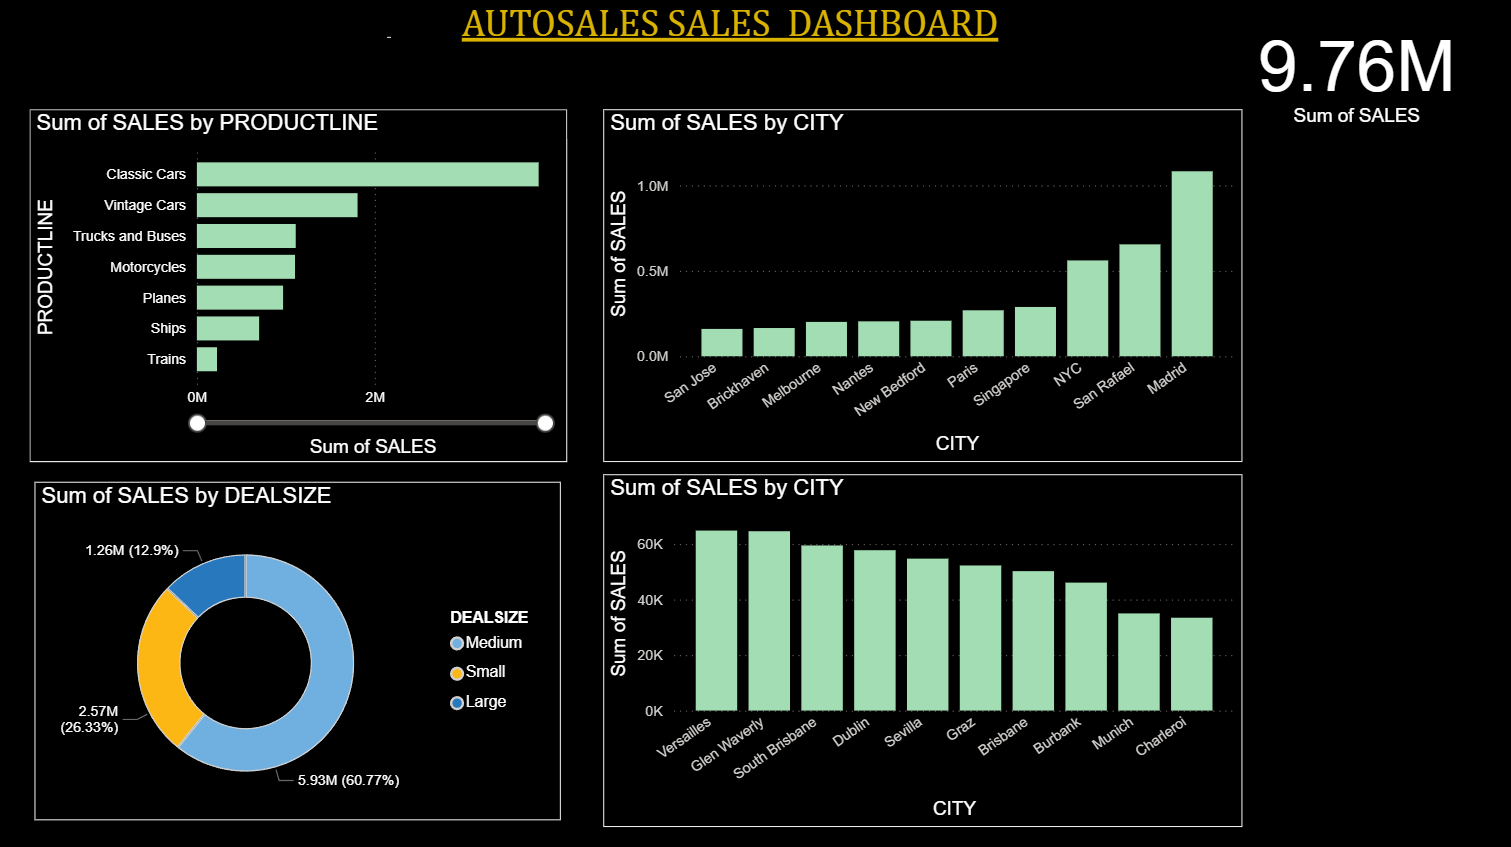

What the dashboard file says about the page in this screenshot:
{"tool":"powerbi","page":{"name":"Sales ","canvas":[1280,720],"ordinal":0},"visuals":[{"type":"textbox","box":[31.2,0,1248.8,62.3],"z":0},{"type":"barChart","fields":{"Y":["Sum(Auto Sales data (2).SALES)"],"Category":["Auto Sales data (2).PRODUCTLINE"]},"box":[27.4,93.8,453.4,297.4],"z":1000},{"type":"donutChart","fields":{"Category":["Auto Sales data (2).DEALSIZE"],"Y":["Sum(Auto Sales data (2).SALES)"]},"box":[31.6,408.1,443.9,285.8],"z":2000},{"type":"card","fields":{"Values":["Sum(Auto Sales data (2).SALES)"]},"box":[1014.4,0,265.7,123.4],"z":3000},{"type":"columnChart","fields":{"Category":["Auto Sales data (2).CITY"],"Y":["Sum(Auto Sales data (2).SALES)"]},"box":[511.4,93.8,538.8,297.4],"z":4000},{"type":"columnChart","fields":{"Category":["Auto Sales data (2).CITY"],"Y":["Sum(Auto Sales data (2).SALES)"]},"box":[511.4,401.8,538.8,297.4],"z":5000}]}

Visuals, with their boxes in screenshot pixels (x1, y1, x2, y2), scaled from the page's 1280x720 canvas onto the 1511x847 screenshot:
textbox: (37,0,1510,73)
barChart - Sum(Auto Sales data (2).SALES) x Auto Sales data (2).PRODUCTLINE: (32,110,568,460)
donutChart - Auto Sales data (2).DEALSIZE x Sum(Auto Sales data (2).SALES): (37,480,561,816)
card - Sum(Auto Sales data (2).SALES): (1197,0,1510,145)
columnChart - Auto Sales data (2).CITY x Sum(Auto Sales data (2).SALES): (604,110,1240,460)
columnChart - Auto Sales data (2).CITY x Sum(Auto Sales data (2).SALES): (604,473,1240,823)
